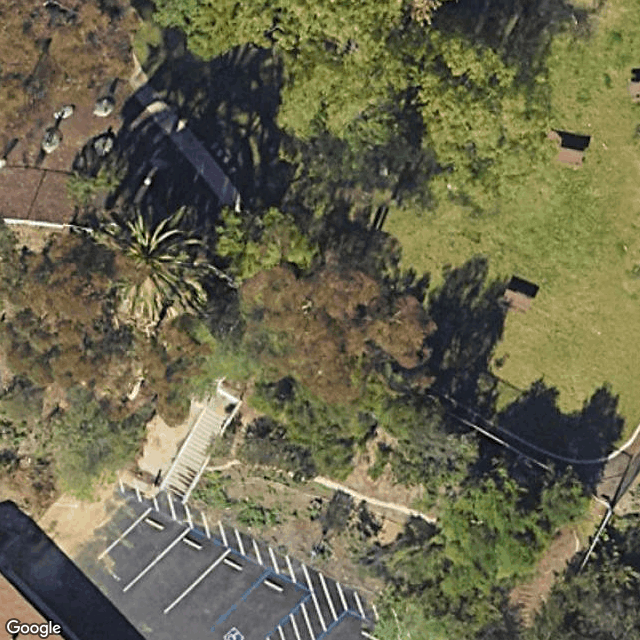palm: (76, 201, 230, 332)
